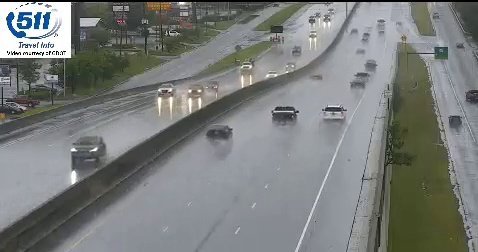car: (271, 106, 297, 125), (322, 106, 346, 122), (207, 125, 232, 139)
